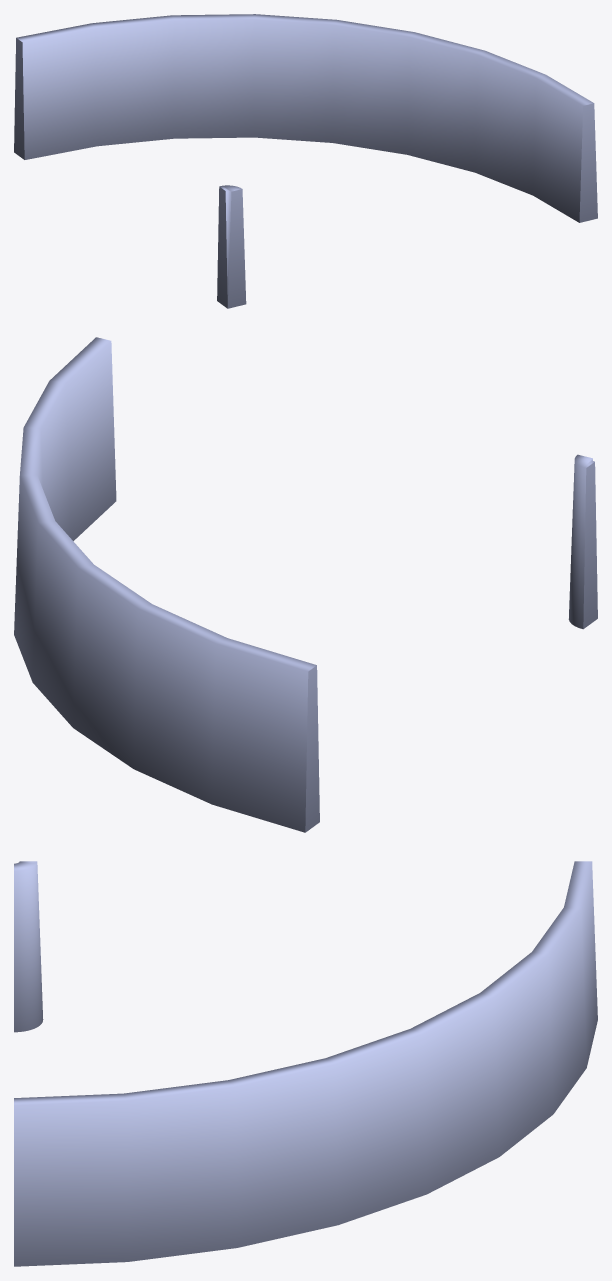
Rendered from collision-track-corner.fbx.
The picture shows the model from 3 angles, top to bottom: view 1: azimuth 30°, elevation 25°; view 2: azimuth 150°, elevation 25°; view 3: azimuth 270°, elevation 25°; orthographic projection. The views are drawn at different scales.
Visible parts, largest first — view 1: collision-track-corner; view 2: collision-track-corner; view 3: collision-track-corner.
Boxes of the visible parts, box(x1,y1,x2,y2) form: collision-track-corner: box(14, 14, 597, 308); collision-track-corner: box(14, 337, 597, 832); collision-track-corner: box(14, 861, 597, 1266).
Bounding box in the file's own units: 1000 × 300 × 1000.
Materials: 1 (1 with a texture image).
